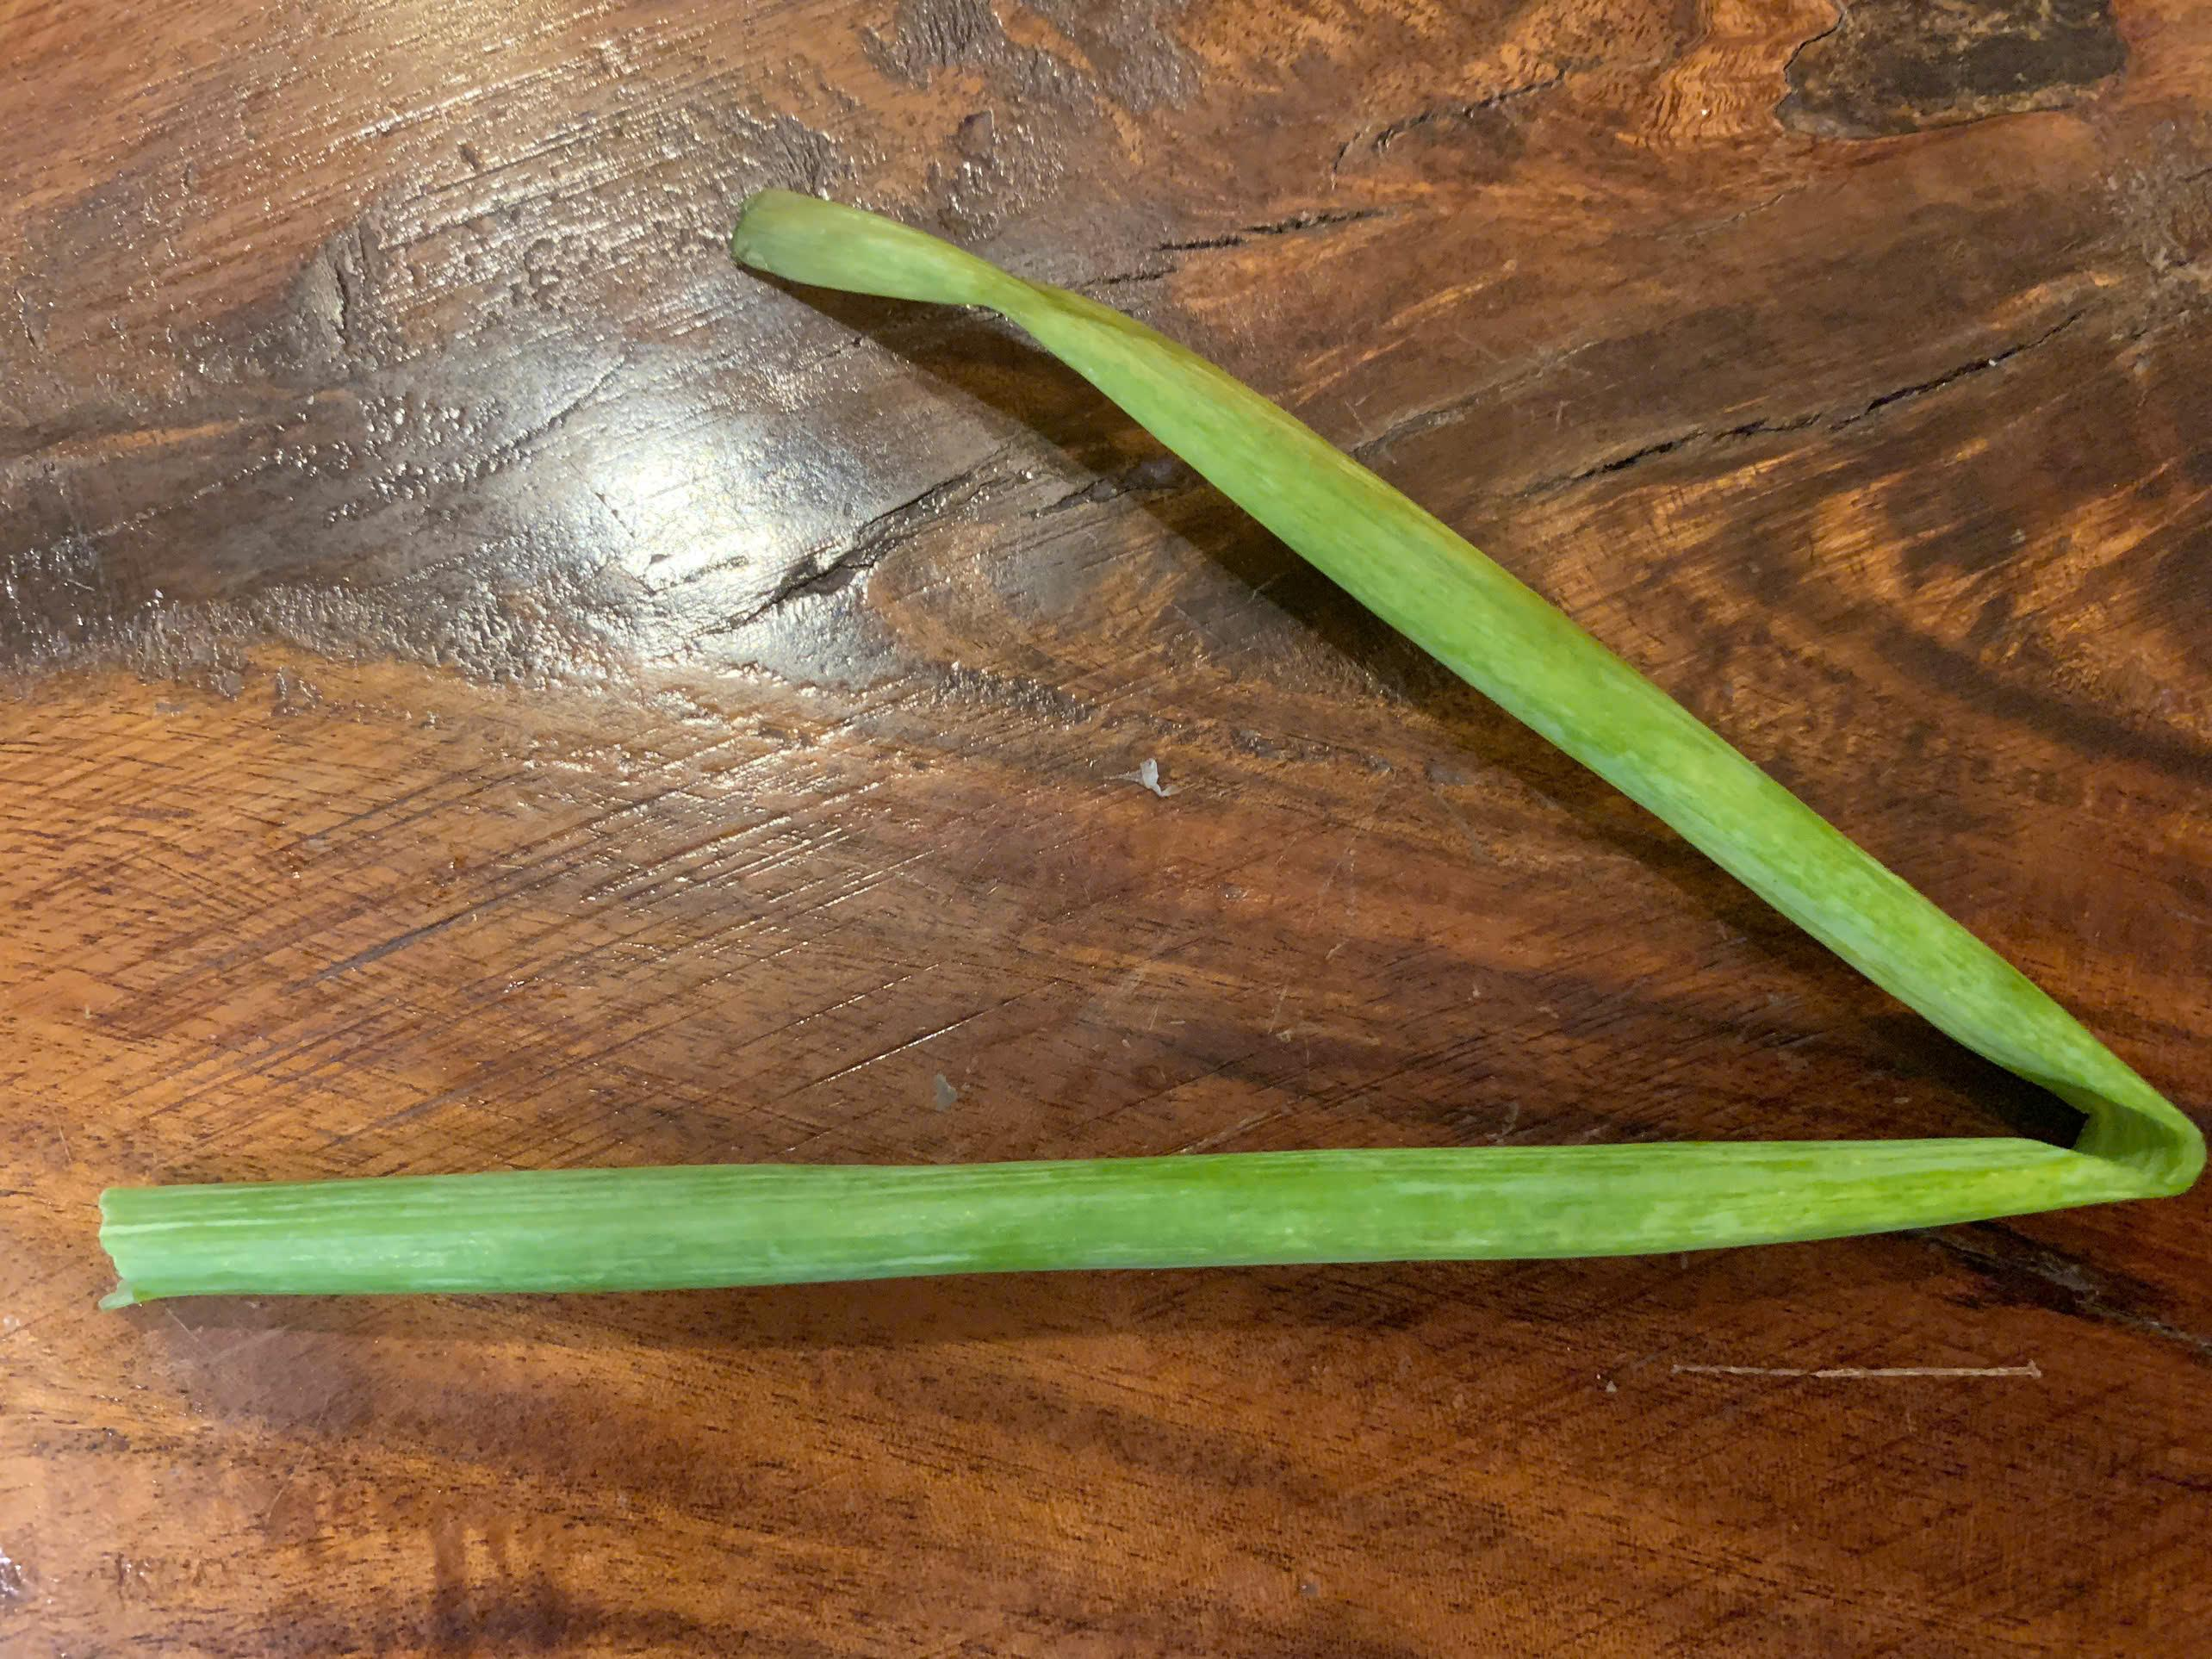Huu co: (106, 202, 2203, 1302)
